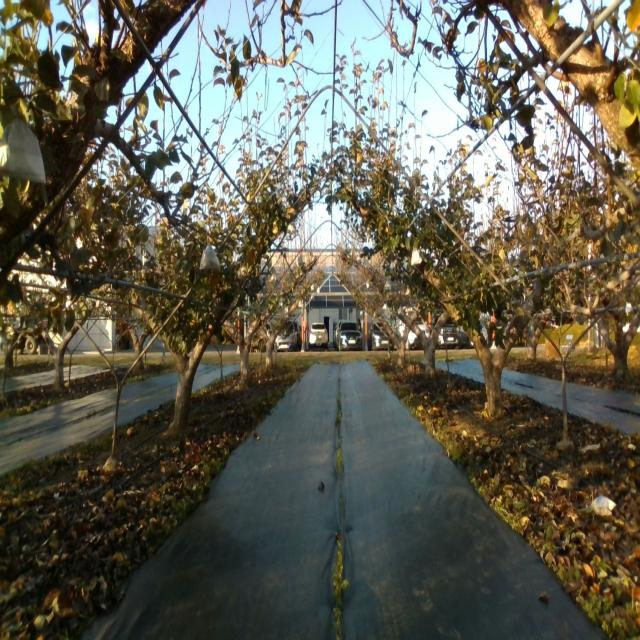pearbags: (0, 118, 46, 184), (199, 245, 221, 271), (410, 247, 422, 265)
